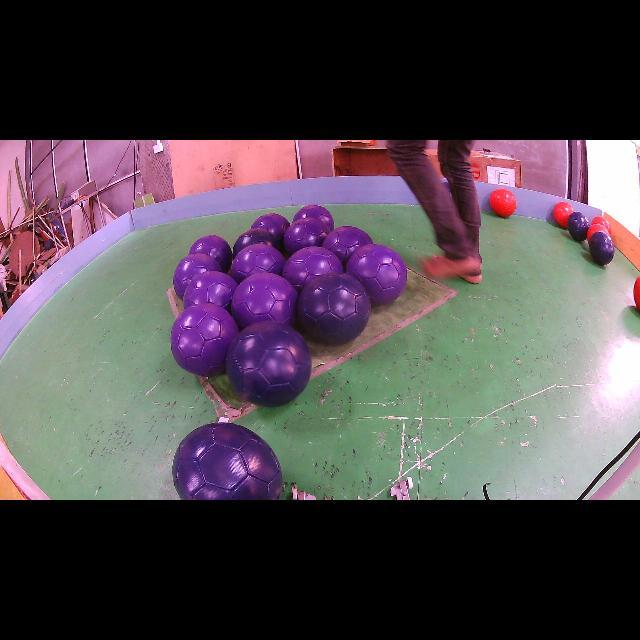B: (171, 422, 283, 500), (227, 322, 313, 407), (298, 272, 370, 345), (230, 229, 276, 261), (589, 231, 615, 265), (568, 211, 590, 241)
P: (170, 302, 239, 377), (231, 272, 298, 330), (346, 244, 406, 305), (281, 246, 342, 292), (182, 271, 238, 312), (172, 254, 221, 300), (322, 226, 372, 268), (231, 244, 285, 282), (280, 218, 329, 258), (188, 235, 230, 272), (251, 212, 289, 240), (294, 205, 333, 229)
R: (490, 189, 516, 216), (554, 201, 575, 228), (588, 224, 609, 242), (591, 216, 611, 234), (634, 276, 640, 311)
